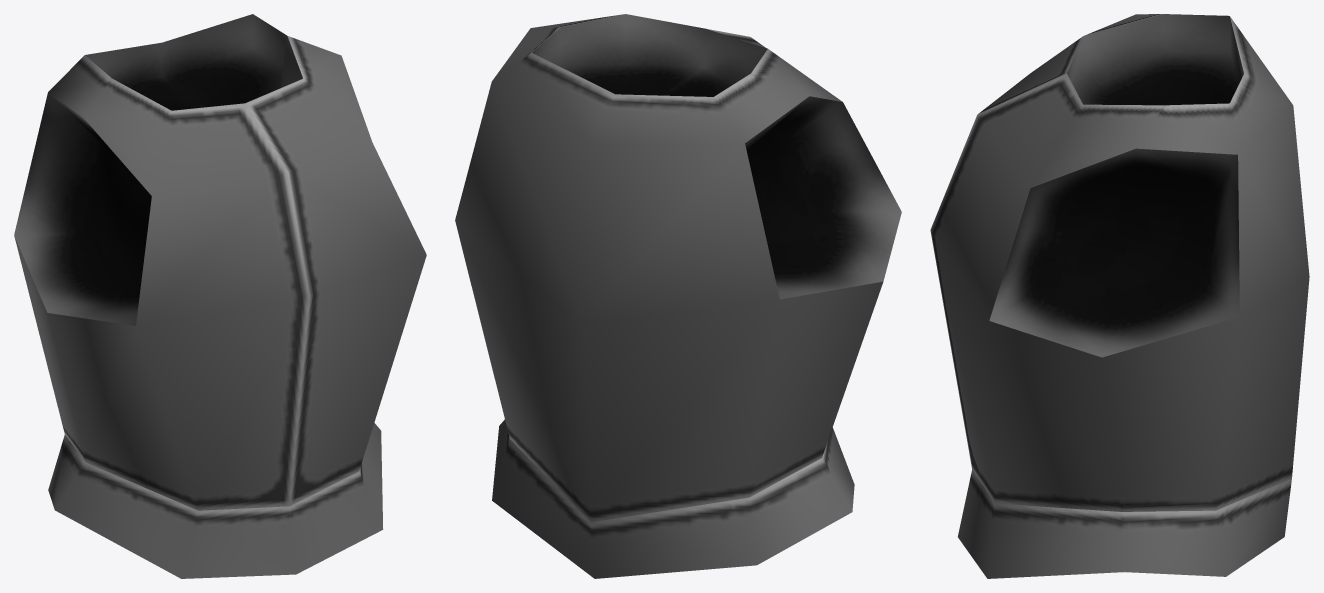
File: BreastPlate.FBX
3 views of the same model, side by side, from view 1: azimuth 30°, elevation 25°; view 2: azimuth 150°, elevation 25°; view 3: azimuth 270°, elevation 25° (orthographic). The views are drawn at different scales.
Parts seen in each view (by area): view 1: Breastplate; view 2: Breastplate; view 3: Breastplate.
Part boxes in pixels (x1,y1,x2,y2): Breastplate: (14,14,426,578); Breastplate: (455,14,901,578); Breastplate: (930,14,1309,578).
Size of the model in its own units: 54.35 by 46.09 by 64.03.
Materials: 1 (1 with a texture image).
